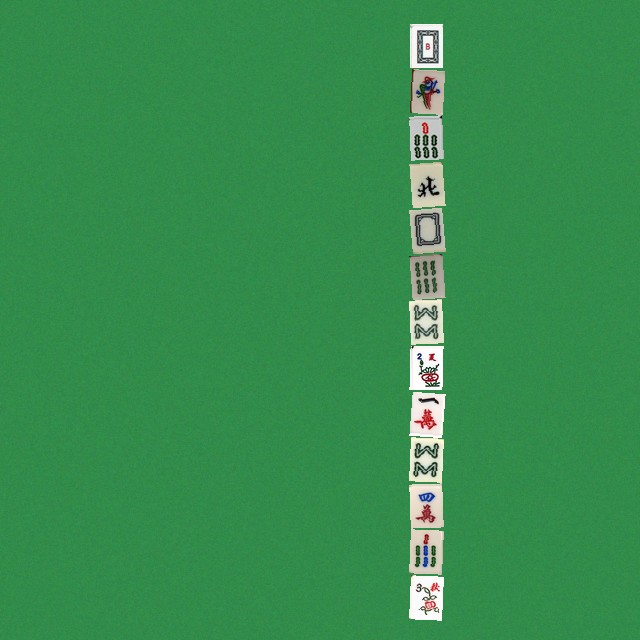tile: (409, 23, 442, 67), (409, 69, 442, 113), (409, 115, 442, 159), (409, 161, 442, 205), (409, 207, 442, 251), (409, 253, 442, 297), (409, 299, 442, 343), (409, 345, 442, 389), (409, 391, 442, 435), (409, 437, 442, 481), (409, 483, 442, 527), (409, 529, 442, 573), (409, 575, 442, 619)
